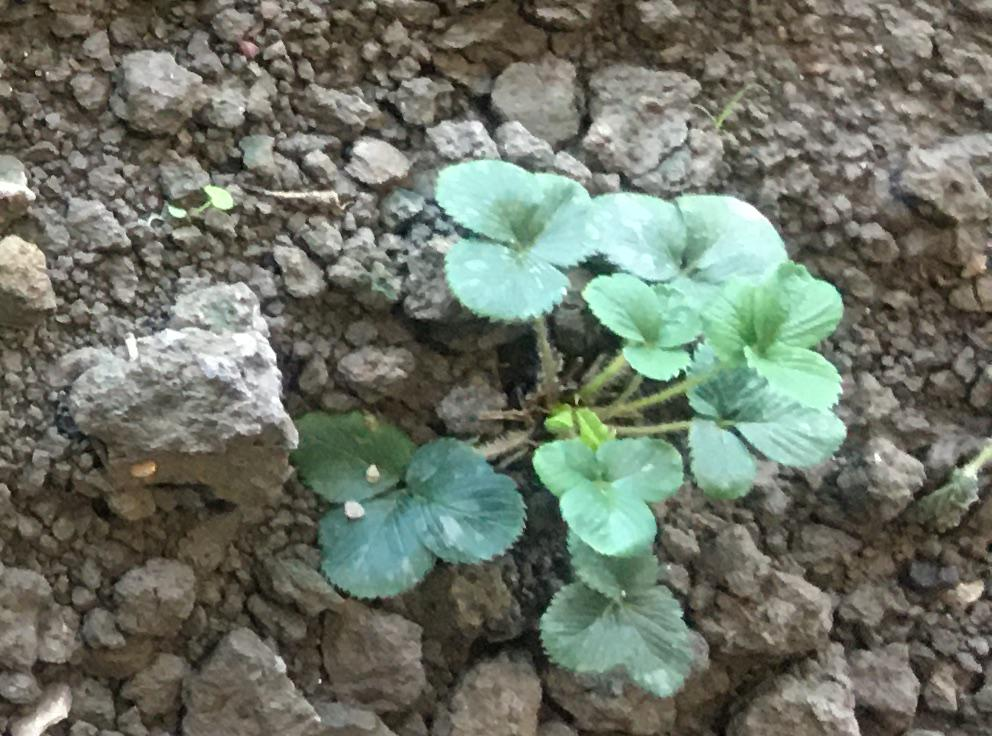block: (67, 282, 288, 514), (178, 627, 318, 736)
